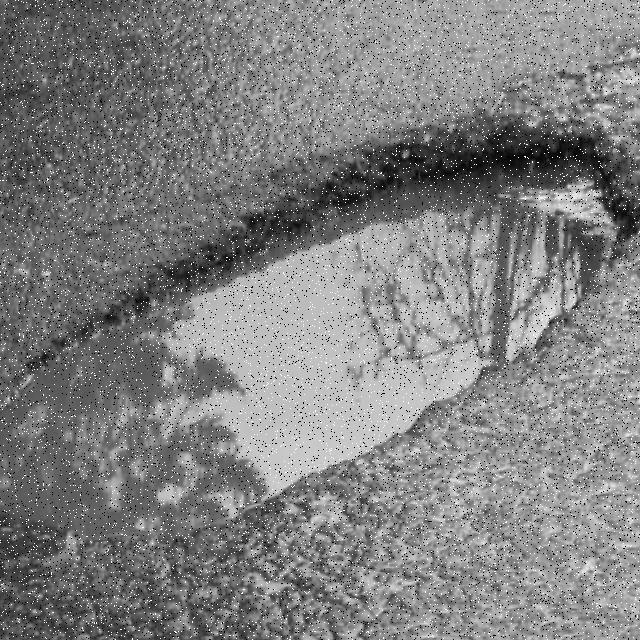pothole: (0, 127, 640, 545)
